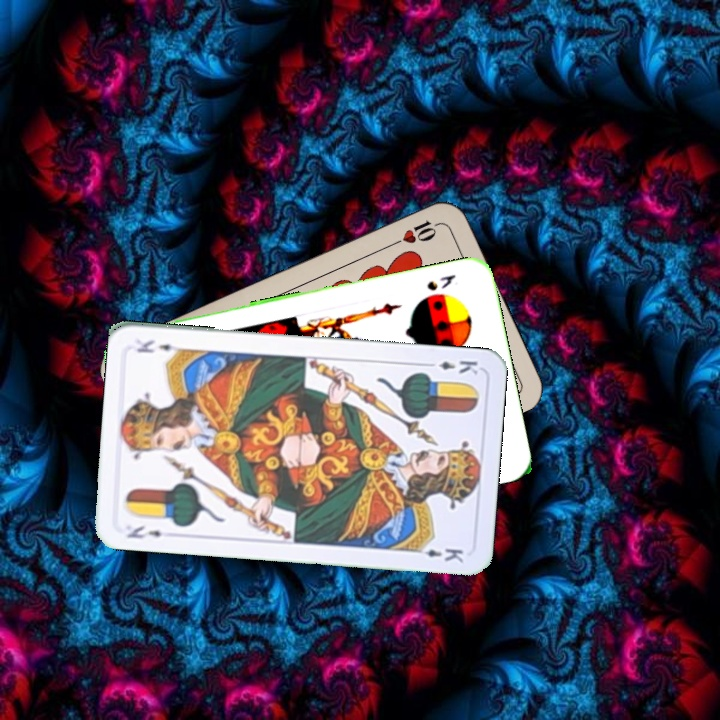EK: (422, 356, 480, 377), (123, 521, 164, 542)
H10: (387, 215, 443, 249)
SK: (423, 270, 458, 294)
